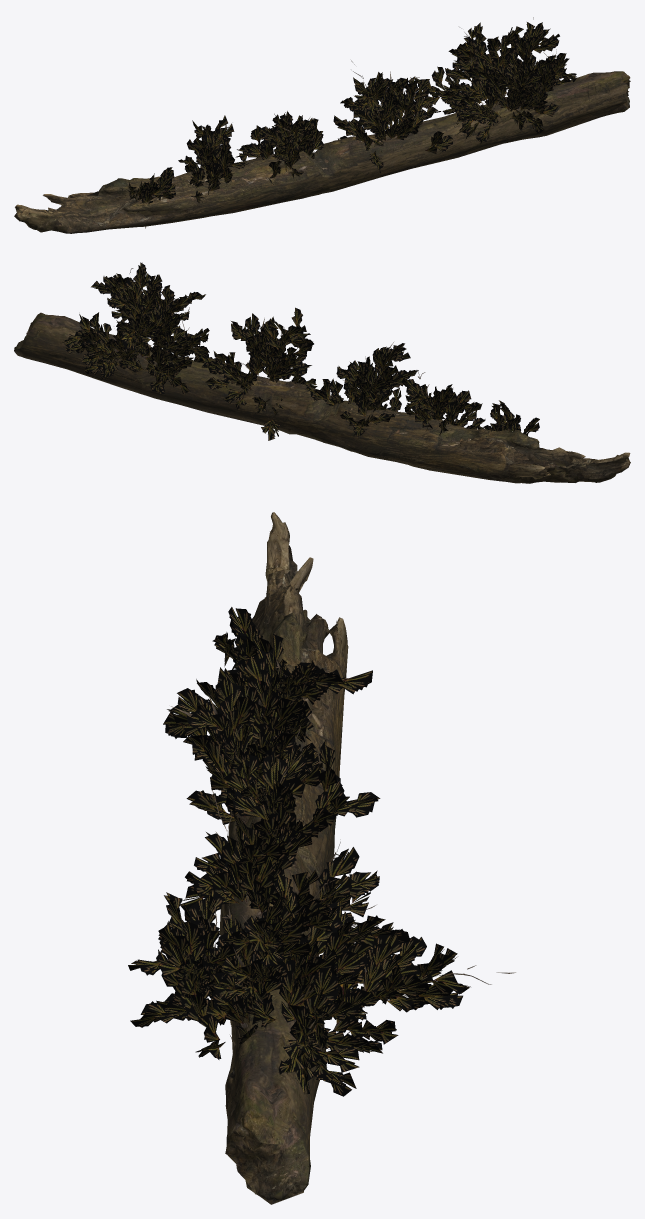
File: plantas_lod.glb
3 renders of one model, top to bottom at view 1: azimuth 30°, elevation 25°; view 2: azimuth 150°, elevation 25°; view 3: azimuth 270°, elevation 25°, orthographic. The views are drawn at different scales.
Visible parts, largest first — view 1: rooibos_L0, tronco_L0, tronco_L1, rooibos_L1; view 2: rooibos_L0, tronco_L0, tronco_L1, rooibos_L1; view 3: rooibos_L0, tronco_L0, rooibos_L1, tronco_L1.
Part boxes in pixels (left/top/right/bottom): rooibos_L0: left=127, top=17, right=576, bottom=228; tronco_L0: left=14, top=71, right=630, bottom=233; tronco_L1: left=15, top=72, right=630, bottom=233; rooibos_L1: left=128, top=22, right=576, bottom=202; rooibos_L0: left=49, top=262, right=539, bottom=440; tronco_L0: left=14, top=312, right=630, bottom=483; tronco_L1: left=14, top=313, right=630, bottom=483; rooibos_L1: left=60, top=268, right=538, bottom=436; rooibos_L0: left=128, top=607, right=515, bottom=1096; tronco_L0: left=220, top=512, right=347, bottom=1201; rooibos_L1: left=131, top=613, right=462, bottom=1092; tronco_L1: left=219, top=526, right=348, bottom=1204.
Bounding box in the file's own units: 3.05 × 0.569 × 0.8433.
8 materials, 8 textured.
